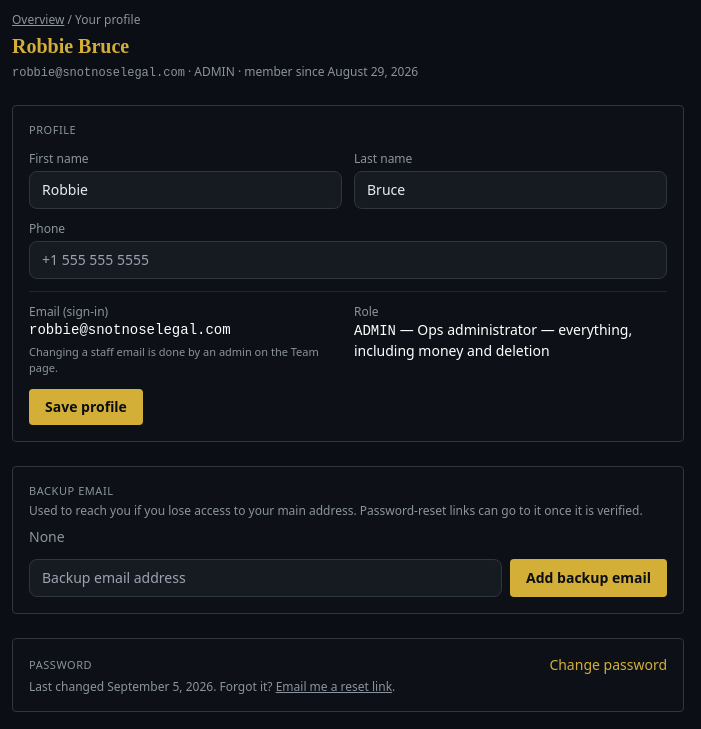
Test: ops profile page › saving sends first/last/phone to the server action and refreshes the session name
Expected: the heading "Robbie Bruce" is shown, [12,35,129,57]
Replace the text in the field labelled "First name" with "Robert" at (186, 190), box [29,170,342,208]
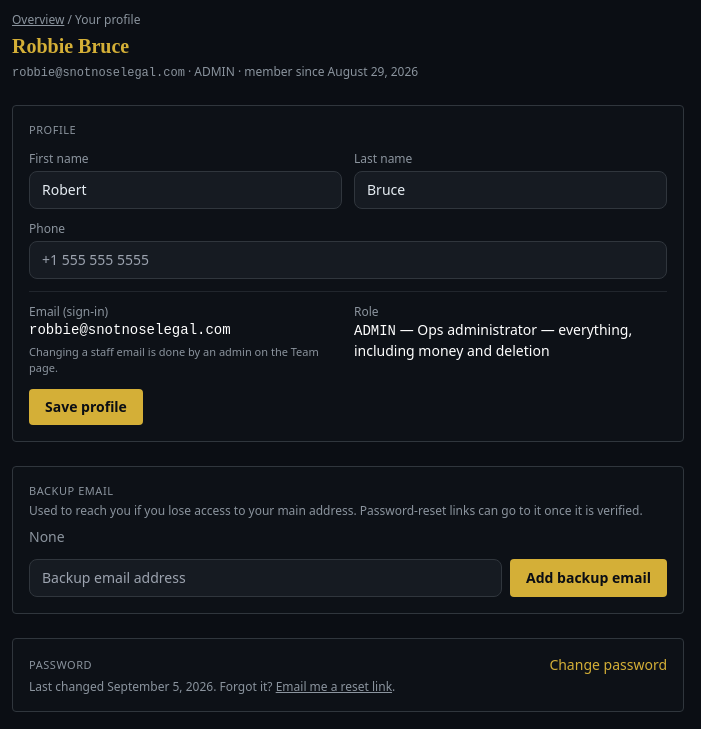
Type "+1 555 010 2020" into the field labelled "Phone" at (348, 260), box [29,240,667,278]
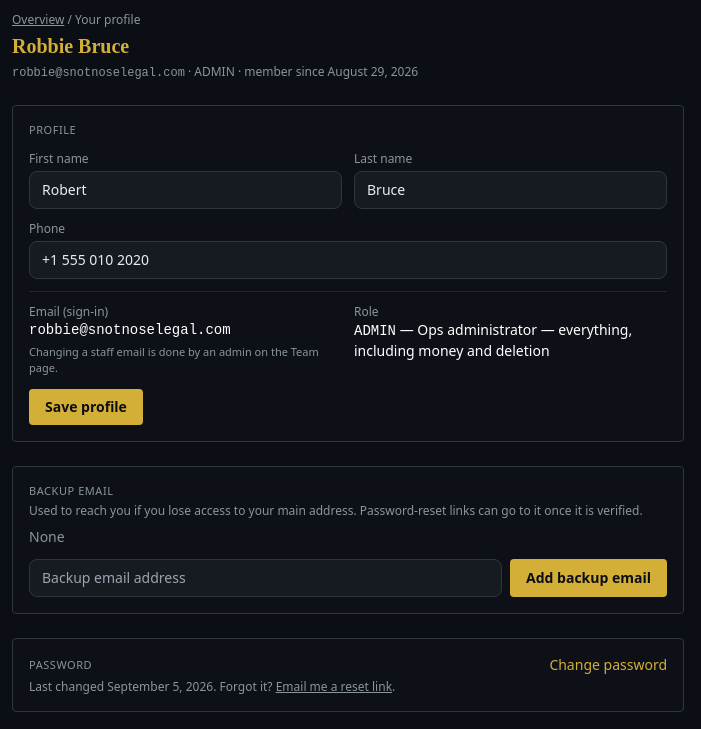
Click the button with test id "profile-save" at (86, 406), box [29,388,143,424]
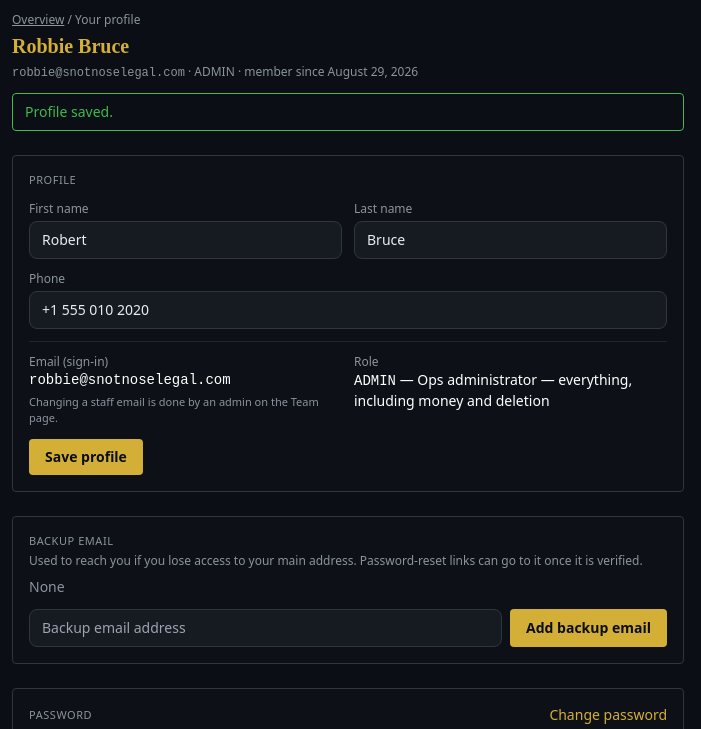
Now the message with test id "profile-notice" reads "Profile saved.", box [25,102,113,121]
